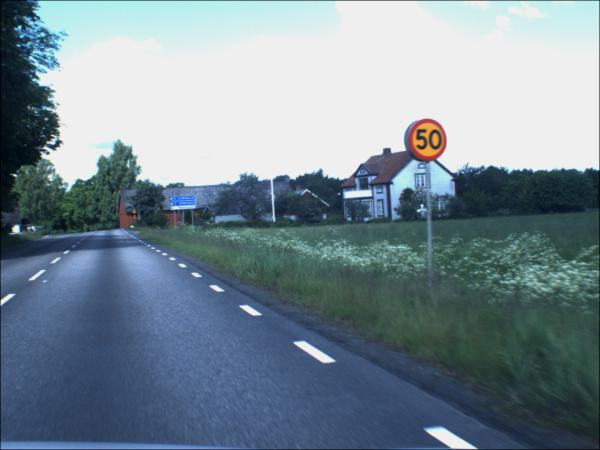50_SIGN: (411, 119, 450, 161), (134, 210, 139, 215)
PRIORITY_ROAD: (133, 216, 139, 220)
